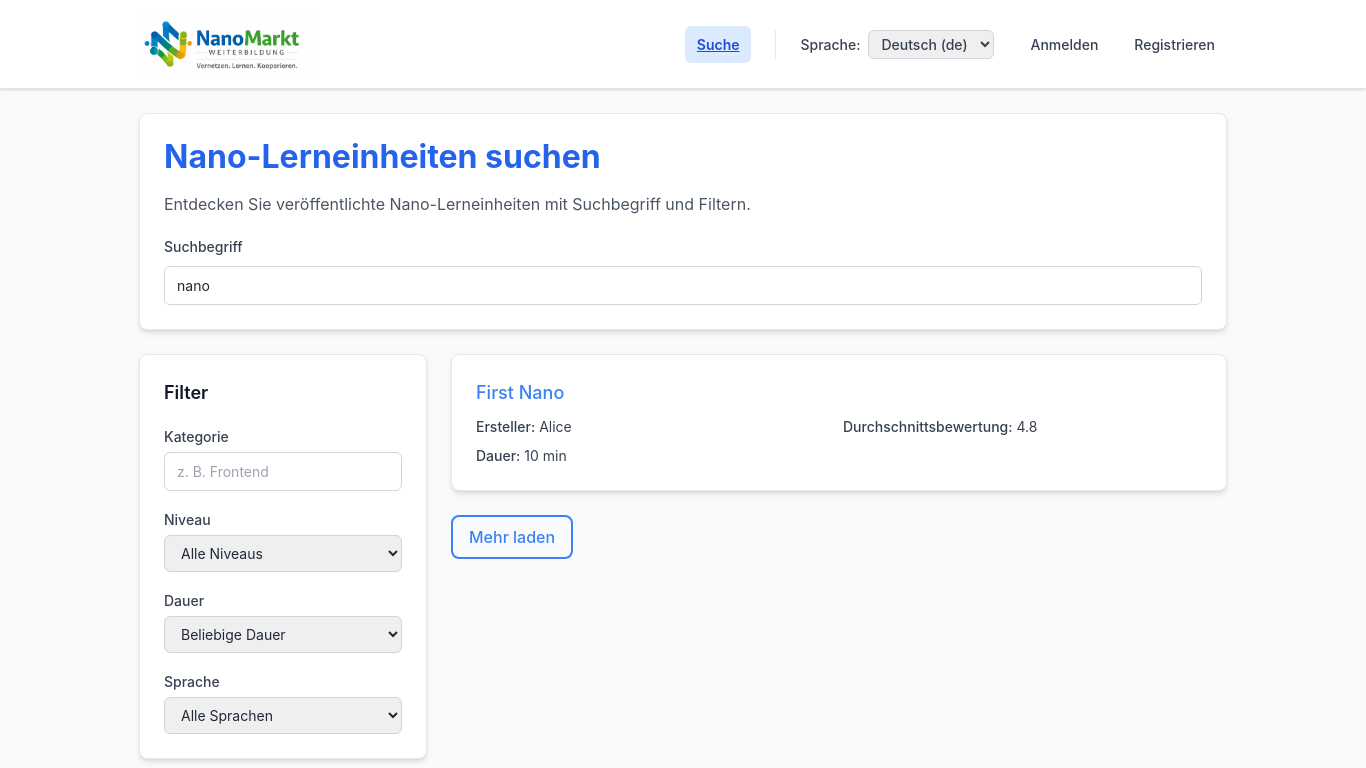
SearchPage › loads additional pages when load more is clicked
Check: the link "First Nano" is shown, box [476,382,564,403]
Click the button "Mehr laden" at (512, 537), box [451,515,573,559]
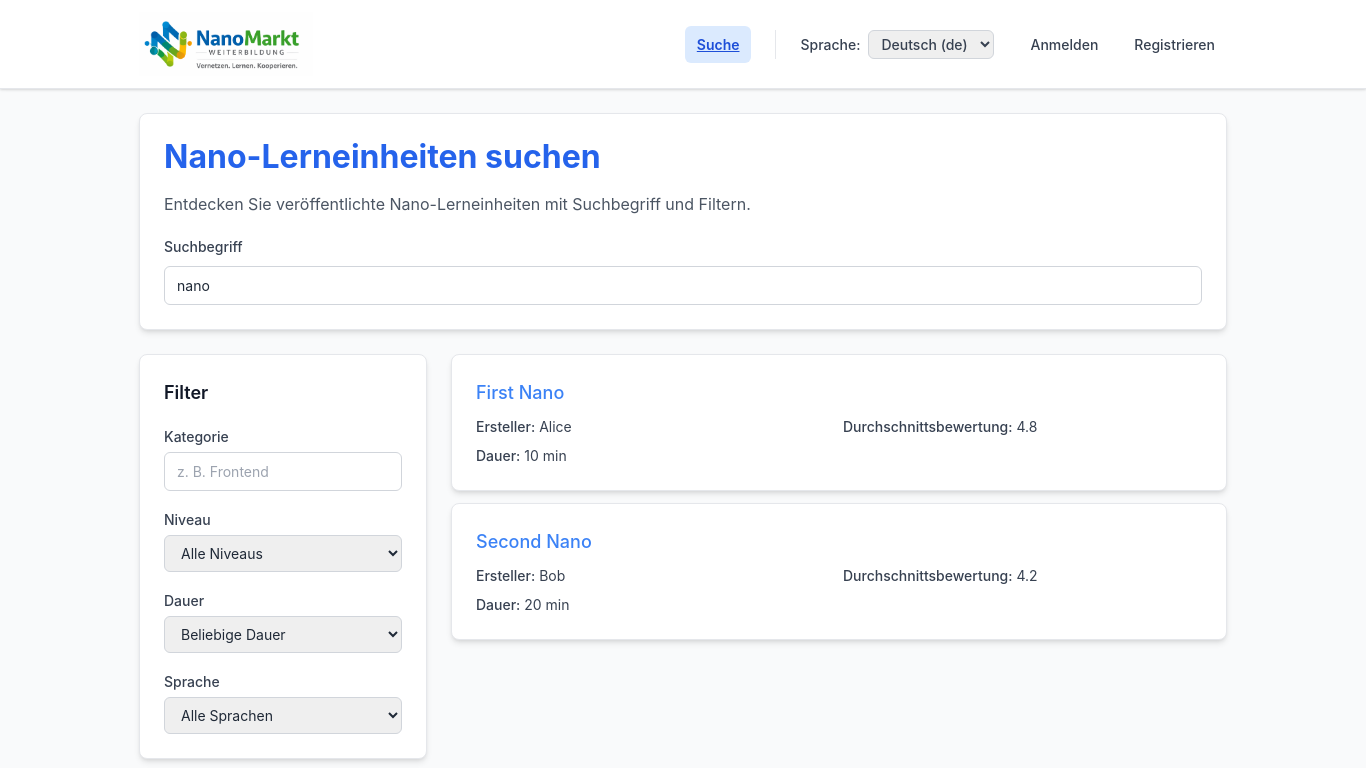
Check: the link "Second Nano" is shown, box [476,531,592,552]
